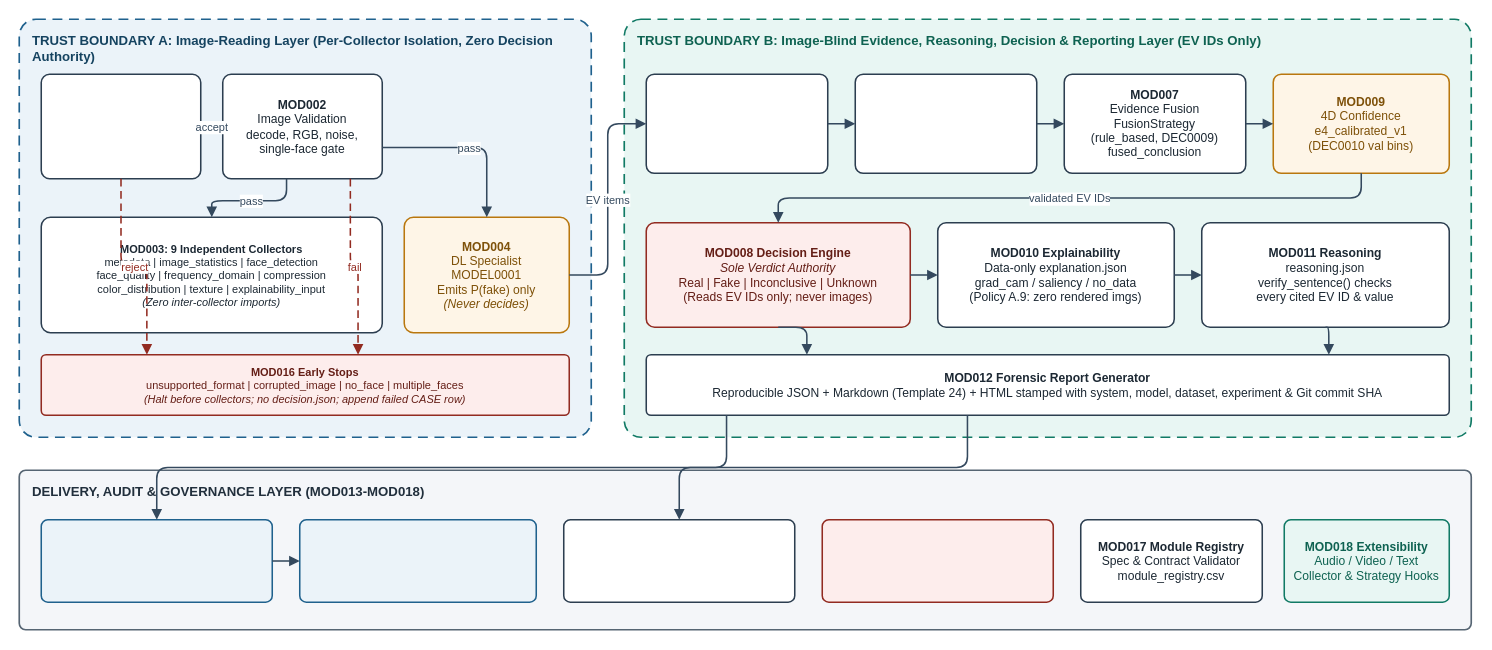
Some shapes in this 1492 by 650 pixel diagram are drawn without their labels. The centre of each missing label's shape, as x and y in pixels:
"MOD001 Input Management ext/size <=20MB input_metadata.json" goes at (x=120, y=126).
"MOD005 Evidence Registry Append-only EV IDs evidence_registry.csv" goes at (x=736, y=123).
"MOD006 Evidence Validator high/med/low/unusable conflict cross-citation" goes at (x=945, y=123).
"MOD013 REST API 7 Django/DRF Apps 10 Endpoints (/api/v1)" goes at (x=156, y=560).
"MOD014 React Web UI 14 Pages, 24 Components 9 Stages + 4 Gauges" goes at (x=417, y=560).
"MOD015 Audit Trail Append-only CASExxxxxx case_registry.csv" goes at (x=678, y=560).
"MOD016 Failure Engine 8 Canonical Failure Modes Zero Silent Failures" goes at (x=937, y=560).
